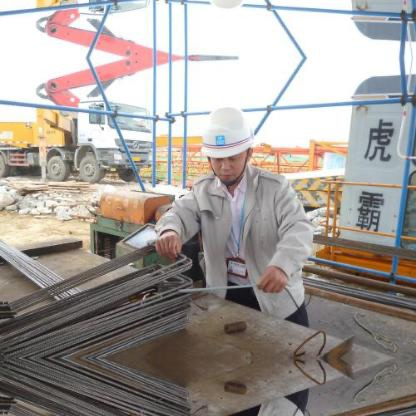Safety Helmet: (197, 104, 260, 185)
